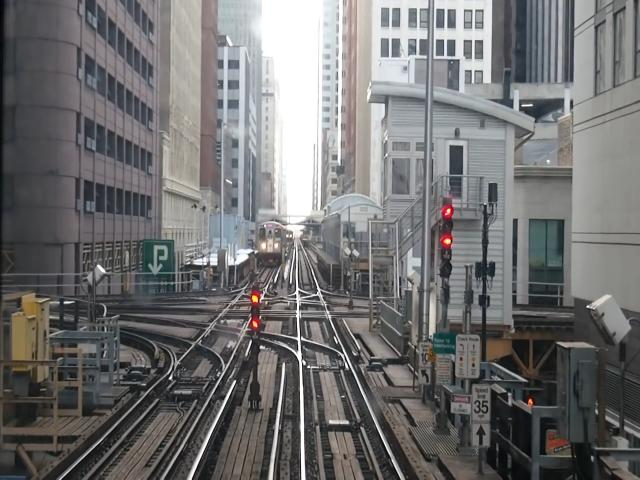signal light: (442, 198, 455, 280), (251, 286, 263, 360)
